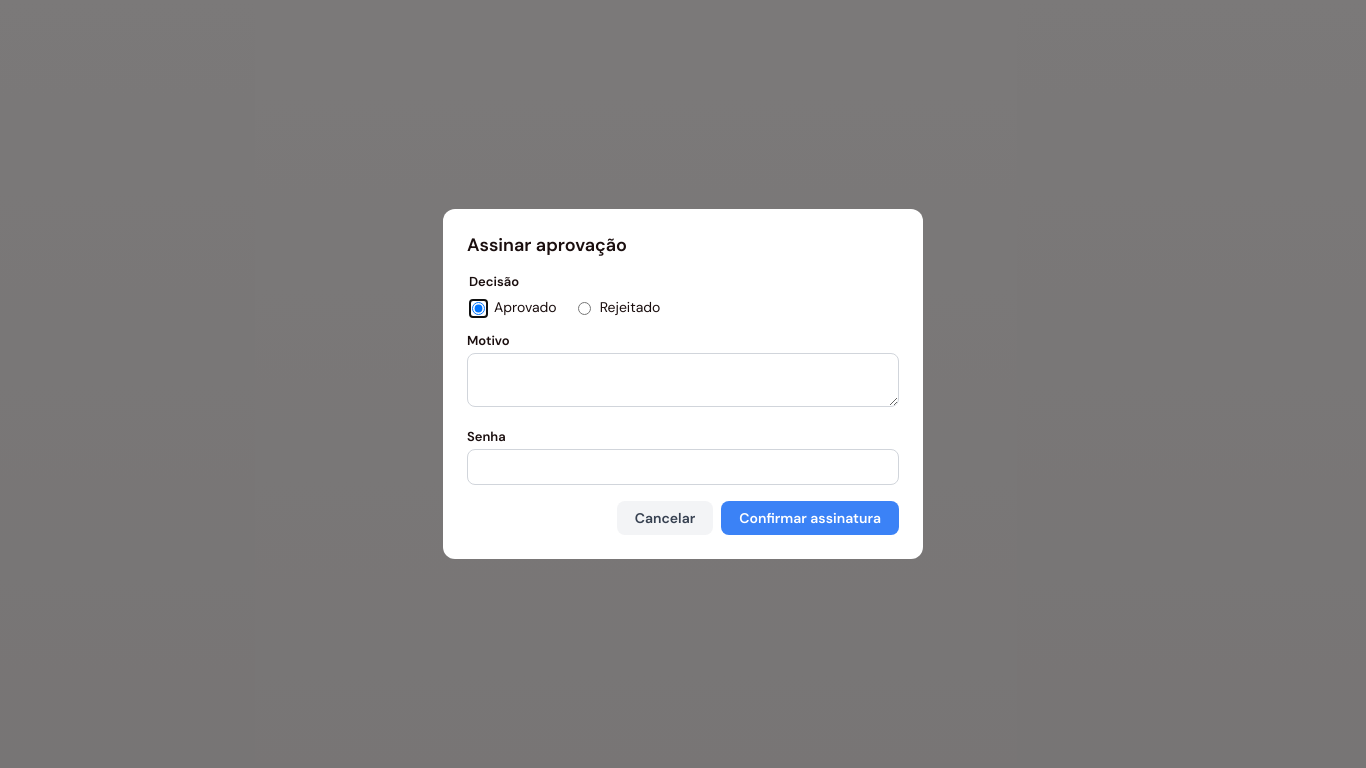
Test: SignoffDialog › error_bad_password — code=authn.signature_invalid shows error message, password cleared, form values preserved
Click the radio button labelled "Rejeitado" at (584, 308), box [578,302,591,315]
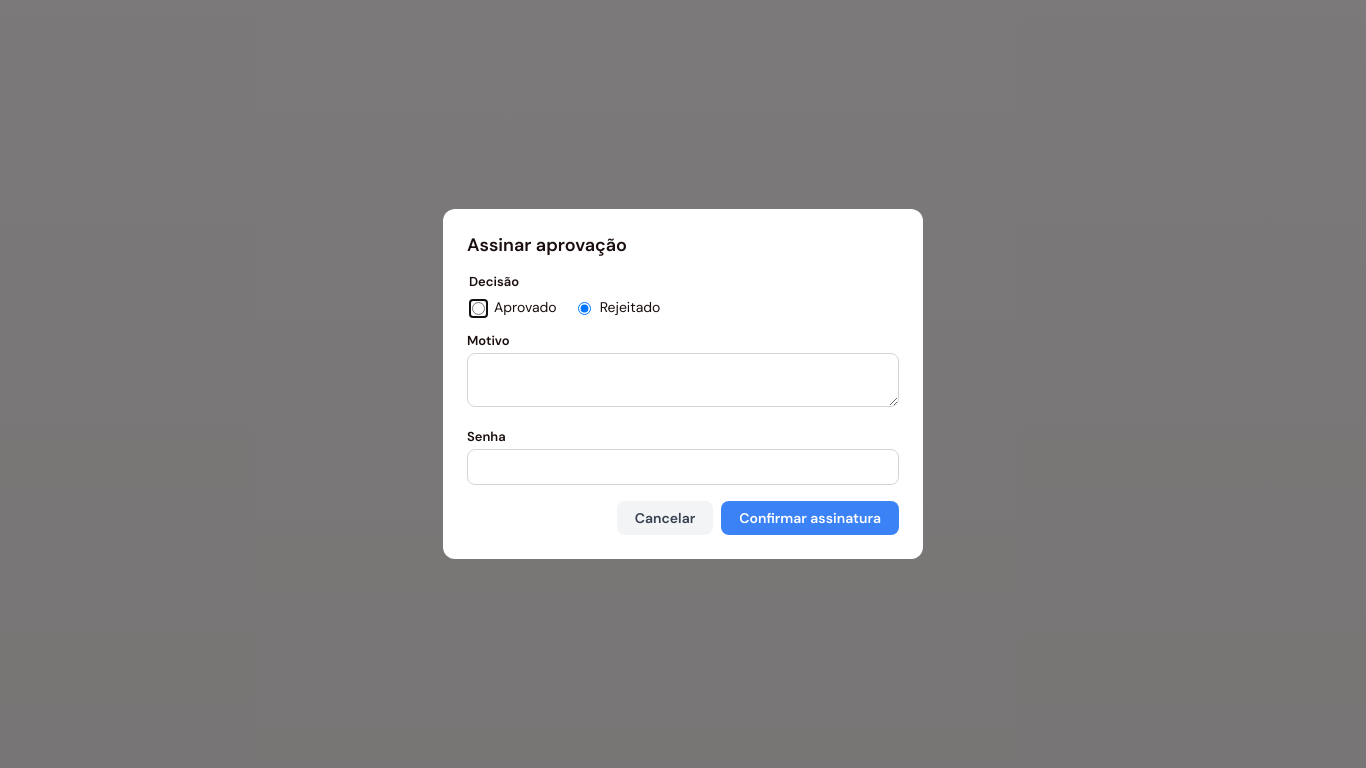
Type "Falta evidência técnica." into the text box labelled "Motivo" at (683, 380), box [467,353,899,407]
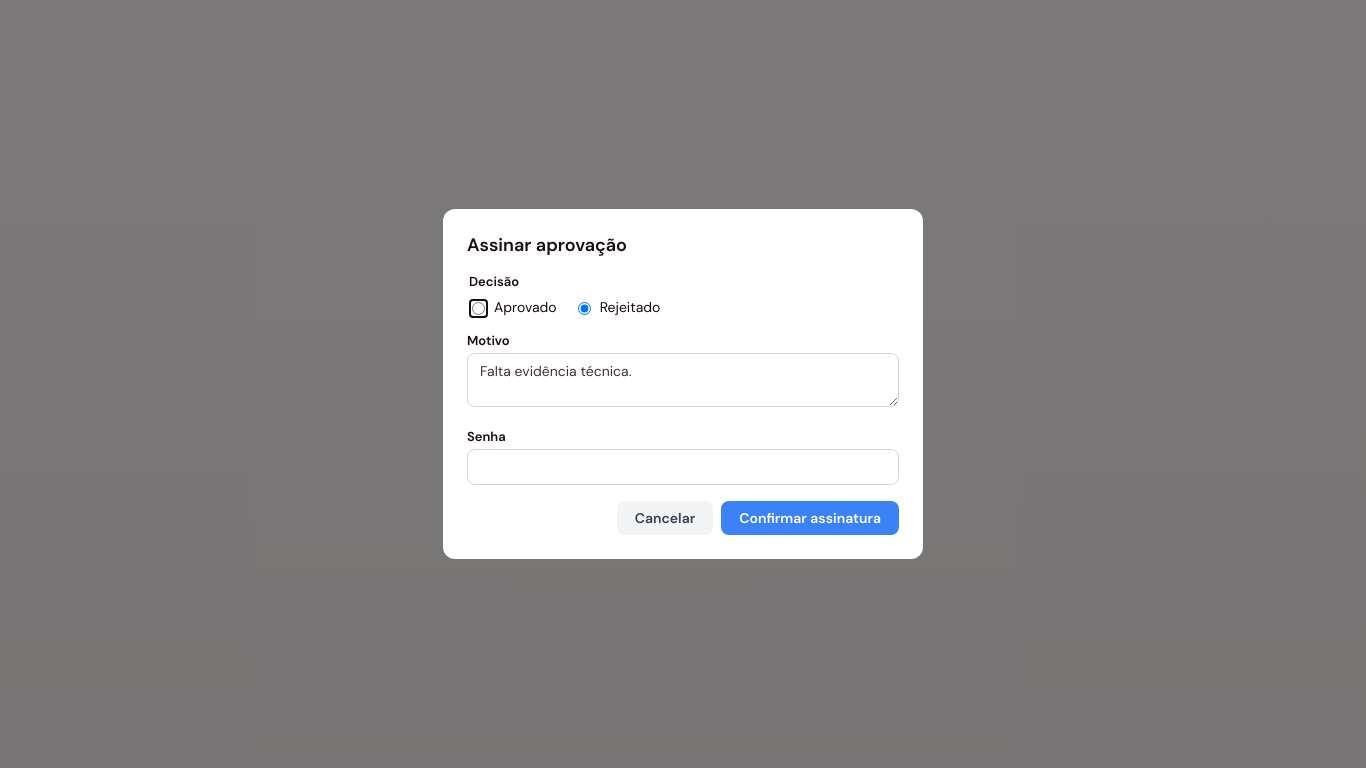
Type "bad-password" into the password field labelled "Senha" at (683, 467), box [467,449,899,485]
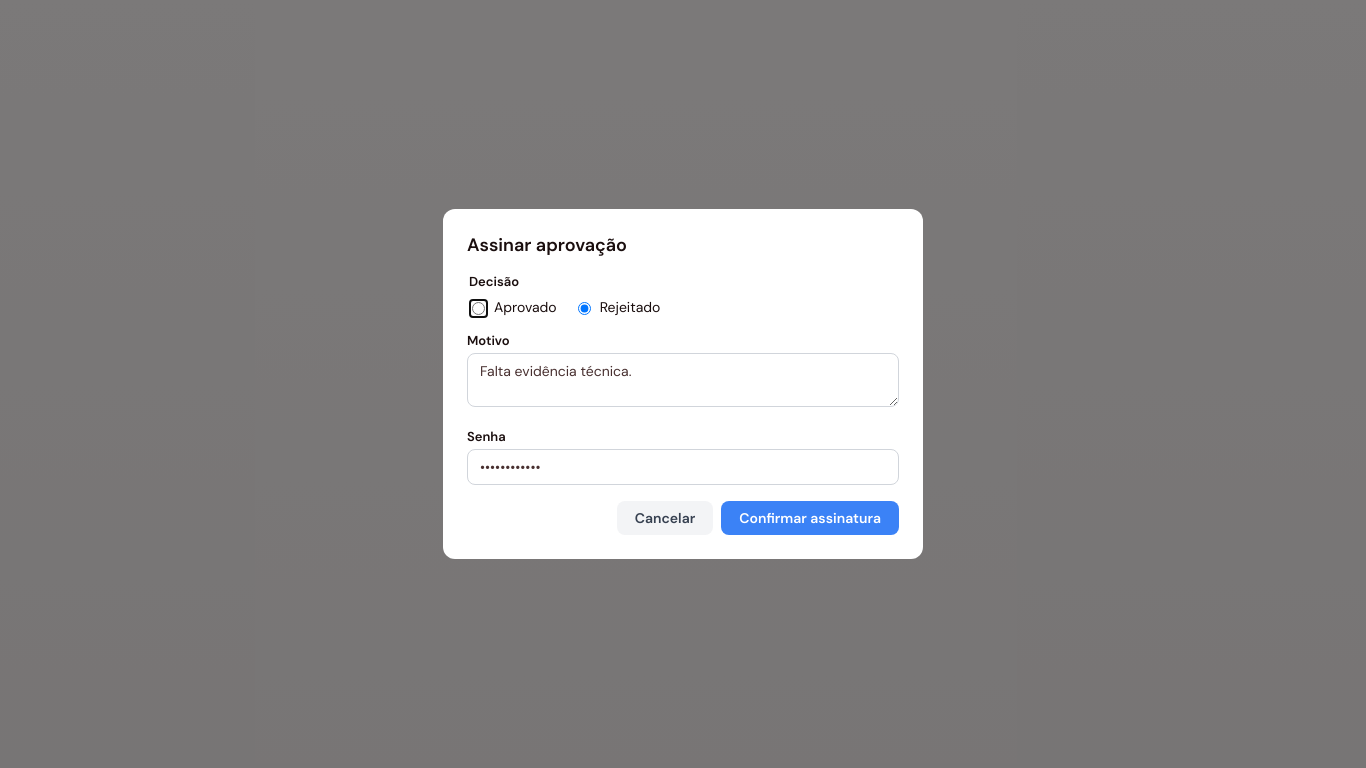
Click the button "Confirmar assinatura" at (810, 518), box [721,501,899,535]
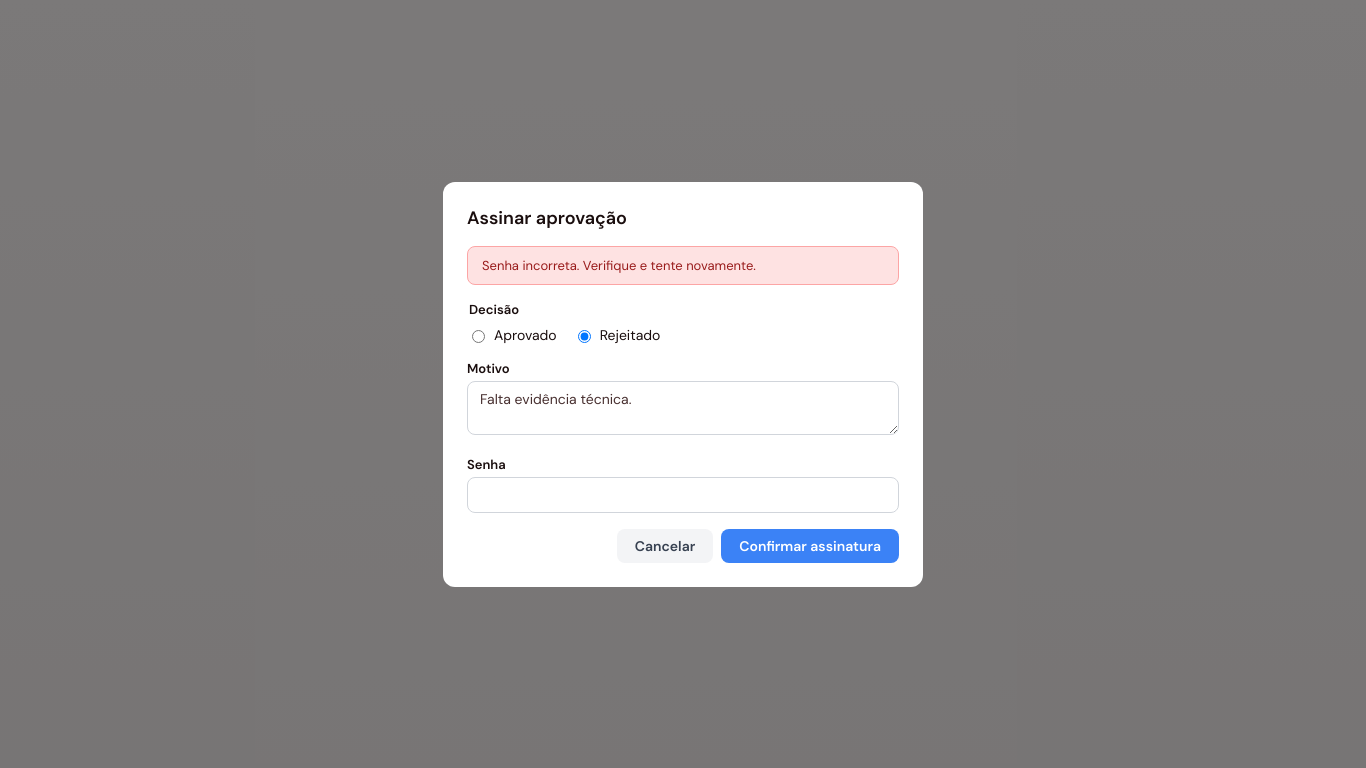
Result: the radio button labelled "Rejeitado" is checked at [578,330,591,342]
Result: the text "Senha incorreta. Verifique e tente novamente." is shown at [467,246,899,284]
Result: the password field labelled "Senha" is empty at [467,476,899,512]
